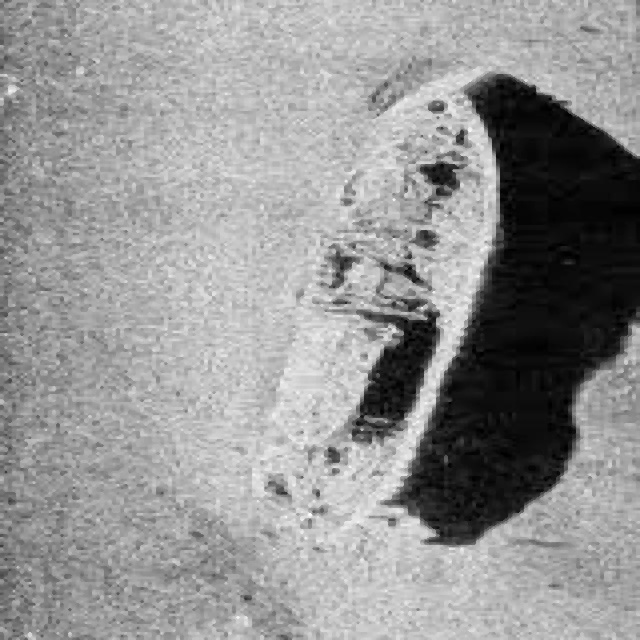Ship: (243, 75, 513, 547)
